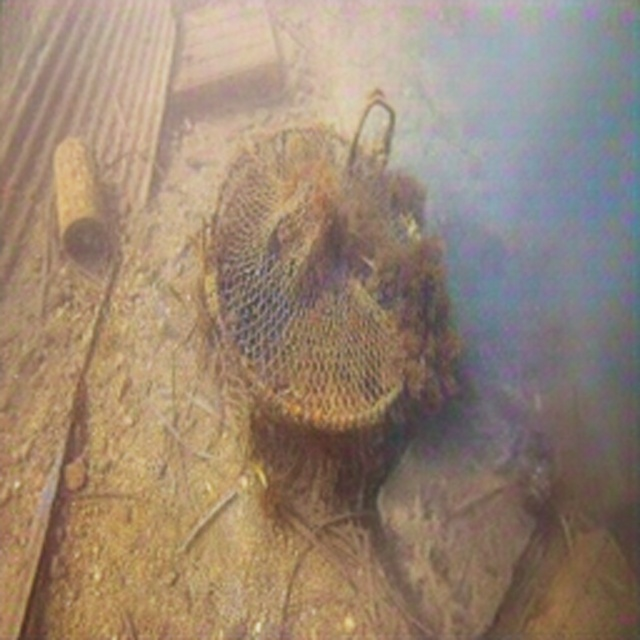mine: (202, 123, 431, 488)
